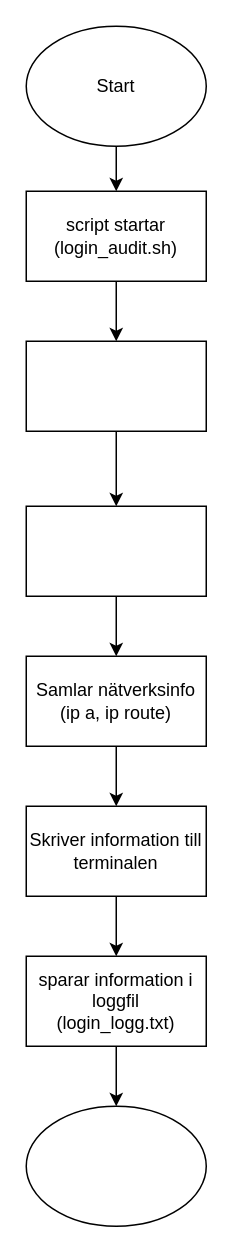
Some shapes in this 233 by 1253 pixel diagram are drawn without their labels. Here are the shapes that lost their labels. From the top down, the centre of each, then its label:
pixel 115 385: Samlar grundläggande systeminfo (datum, användare)
pixel 115 550: Samlar systemstatus (uptime, minne, disk)
pixel 115 1165: Slut
